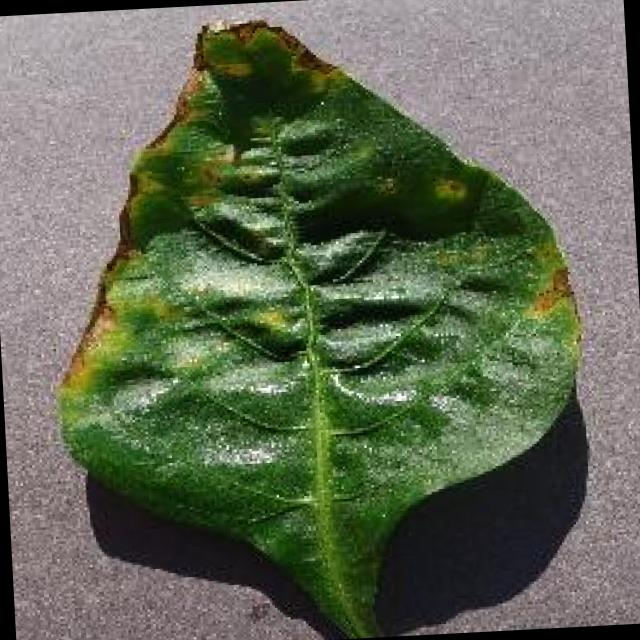Chilli_Bacterial_Spot: (34, 0, 601, 640), (389, 154, 488, 238), (520, 262, 576, 322), (249, 298, 293, 338), (428, 172, 470, 206), (367, 168, 401, 202), (548, 264, 572, 298)
